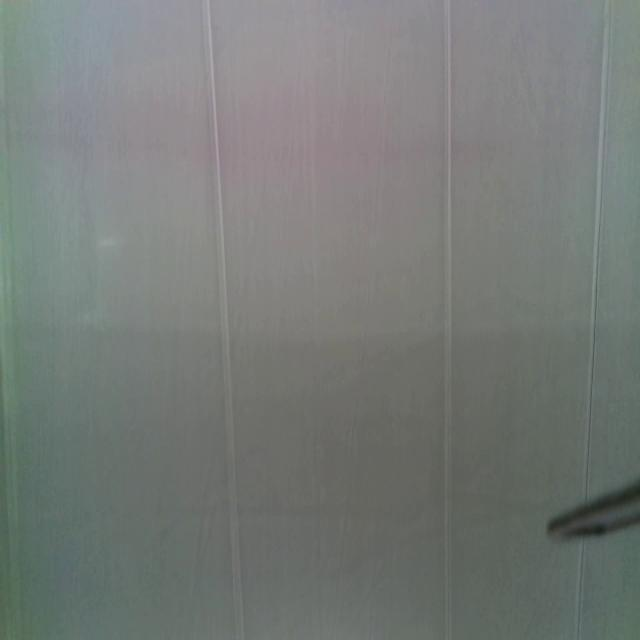color bleeding: (2, 122, 640, 350)
crease: (201, 0, 243, 640), (584, 0, 614, 491), (0, 45, 20, 638), (441, 0, 454, 640), (575, 536, 587, 640)
